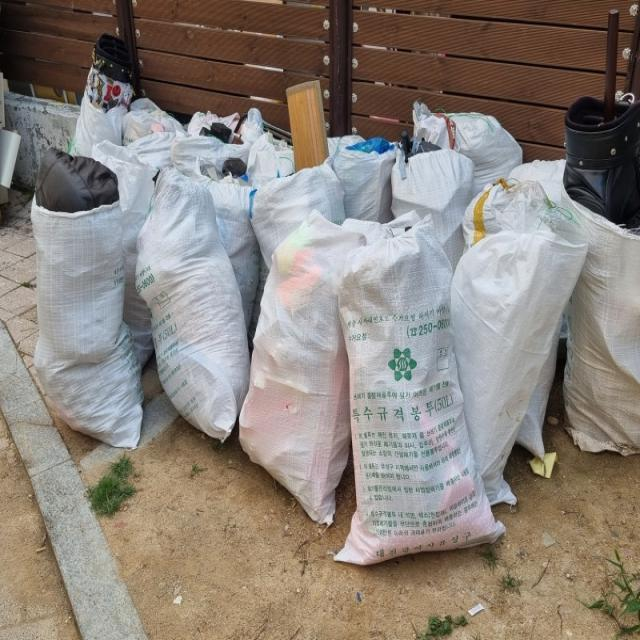PP bag: (327, 226, 510, 570), (240, 196, 380, 536), (451, 181, 597, 500), (22, 196, 152, 459), (140, 172, 245, 450), (551, 182, 640, 460), (90, 131, 166, 218)
